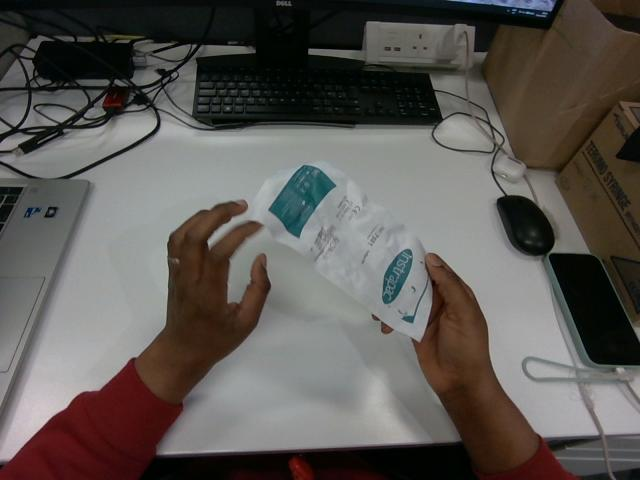gallipot: (250, 162, 431, 339)
